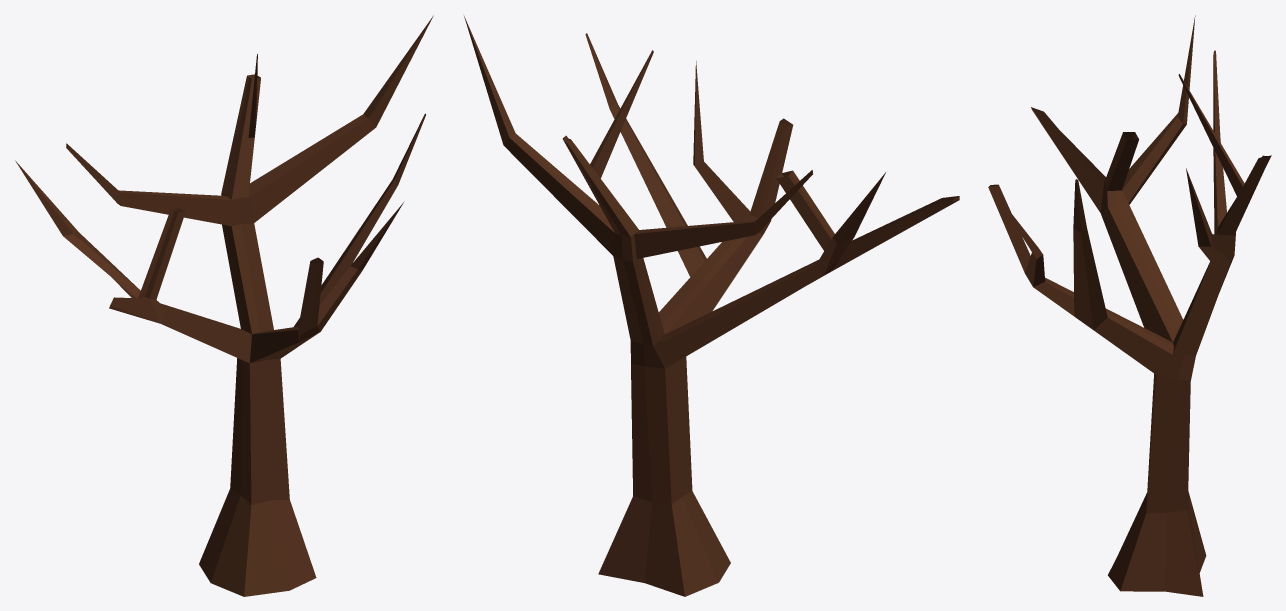
File: tree02.fbx
The picture shows the model from 3 angles, left to right: view 1: azimuth 30°, elevation 25°; view 2: azimuth 150°, elevation 25°; view 3: azimuth 270°, elevation 25°; orthographic projection. The views are drawn at different scales.
Parts seen in each view (by area): view 1: Tree_average_regular.001; view 2: Tree_average_regular.001; view 3: Tree_average_regular.001.
Boxes of the visible parts, x1,y1,x2,y2 form: Tree_average_regular.001: [15, 15, 433, 596]; Tree_average_regular.001: [464, 16, 959, 596]; Tree_average_regular.001: [988, 15, 1271, 596].
Bounding box in the file's own units: 1087 × 1274 × 650.
